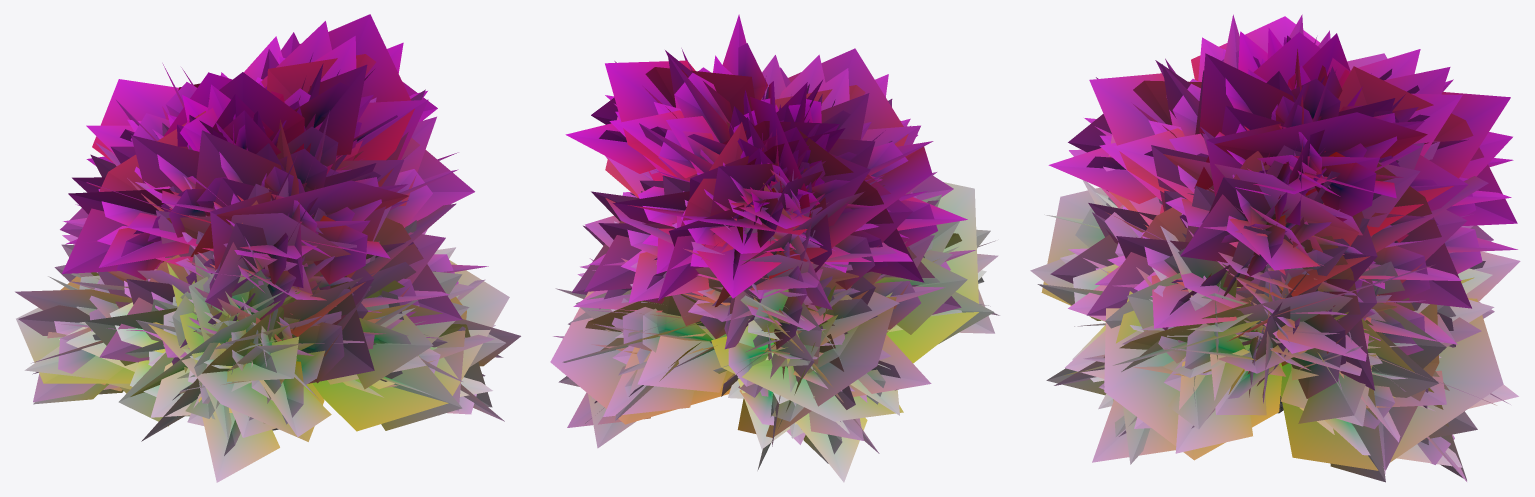
Rendered from filber_tree_3.FBX.
The picture shows the model from 3 angles, left to right: view 1: azimuth 30°, elevation 25°; view 2: azimuth 150°, elevation 25°; view 3: azimuth 270°, elevation 25°; orthographic projection. The views are drawn at different scales.
Visible parts, largest first — view 1: filbert_leaves_lod_0, filbert_leaves_shadow; view 2: filbert_leaves_lod_0, filbert_leaves_shadow; view 3: filbert_leaves_lod_0, filbert_leaves_shadow.
Boxes of the visible parts, x1,y1,x2,y2 form: filbert_leaves_lod_0: [18, 21, 505, 482]; filbert_leaves_shadow: [15, 14, 520, 441]; filbert_leaves_lod_0: [553, 14, 999, 482]; filbert_leaves_shadow: [550, 48, 995, 470]; filbert_leaves_lod_0: [1030, 14, 1520, 482]; filbert_leaves_shadow: [1041, 16, 1517, 480].
Size of what is drawn, in the model's own units: 10.42 by 9.53 by 10.28.
